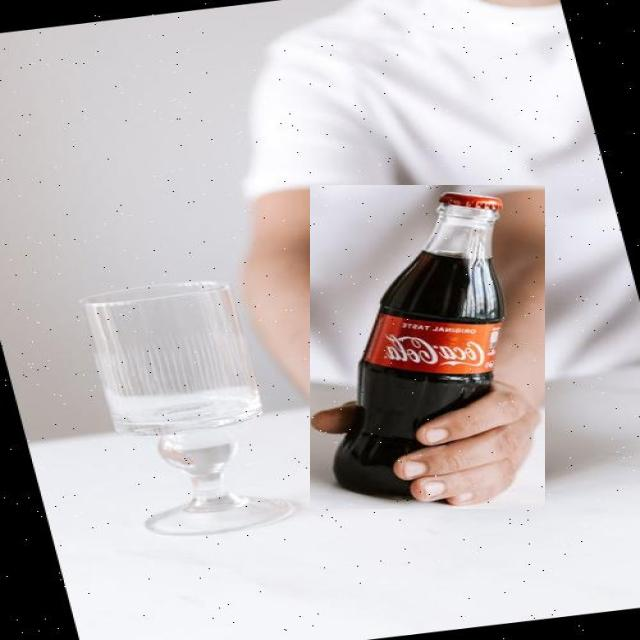coca-cola: (310, 185, 545, 509)
